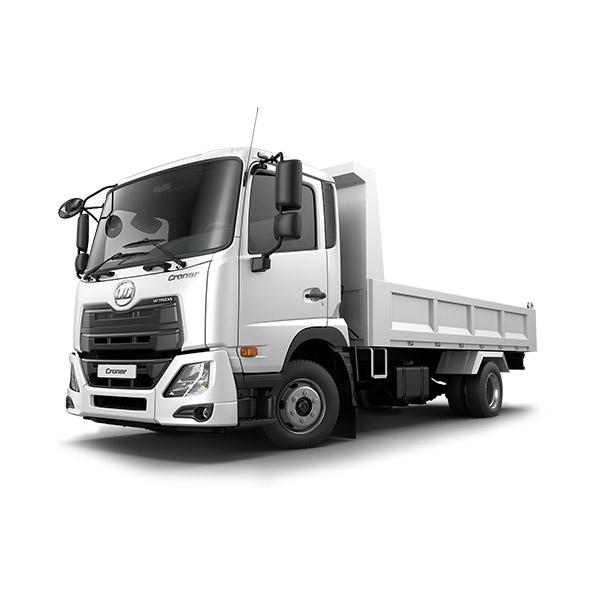truck: (58, 146, 536, 451)
